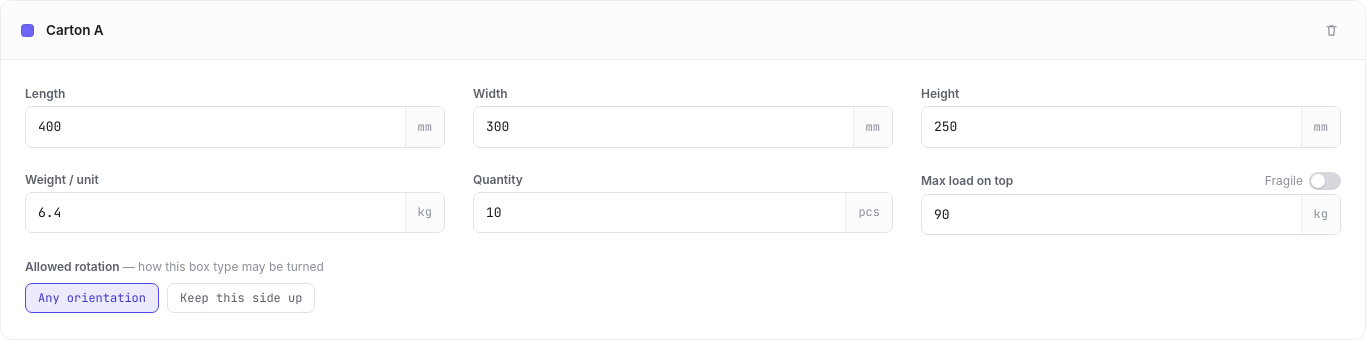
Test: BoxRow — fragile ↔ maxLoad (D-08 / BOX-03) › toggling Fragile OFF restores the prior max-load value
The width and height of the screenshot is (1366, 357).
Click the switch named "Fragile" at (1325, 180), box [1309,172,1341,190]
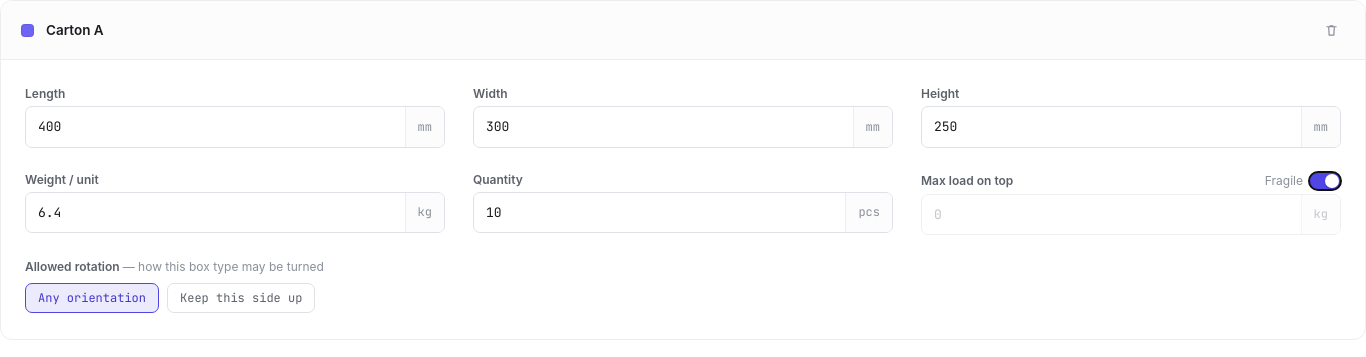
Now the number field labelled "Max load on top" holds "0", box [922,194,1301,234]
Click the switch named "Fragile" at (1325, 180), box [1309,172,1341,190]
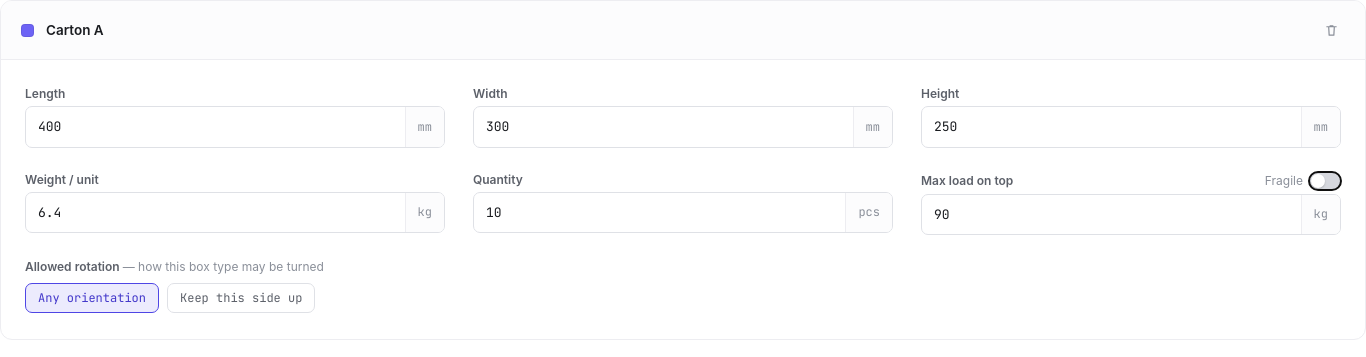
Now the number field labelled "Max load on top" is enabled, box [922,194,1301,234]
Now the number field labelled "Max load on top" holds "90", box [922,194,1301,234]
